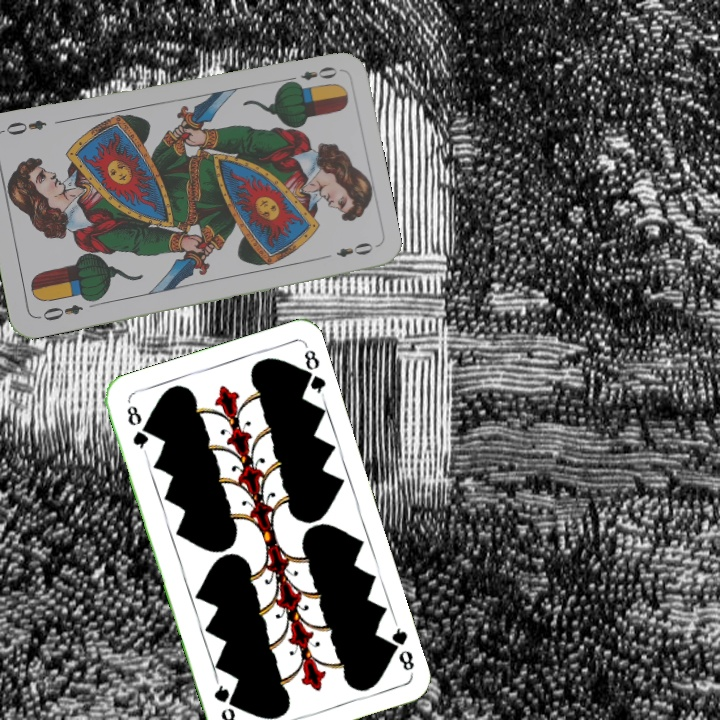EO: (282, 62, 340, 88), (34, 300, 86, 324)
G8: (382, 618, 417, 676), (122, 401, 151, 451)
